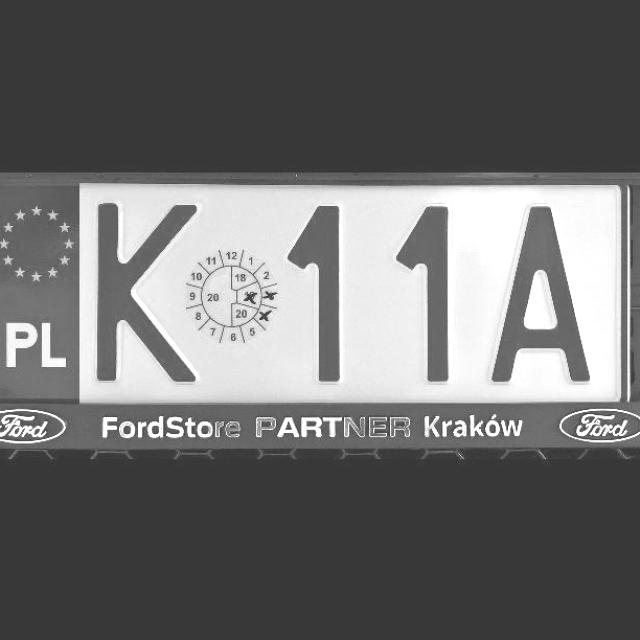licenseplate: (0, 182, 627, 399)
